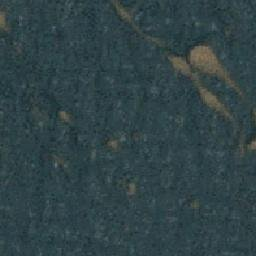debris: (187, 78, 248, 114), (165, 44, 226, 77)
